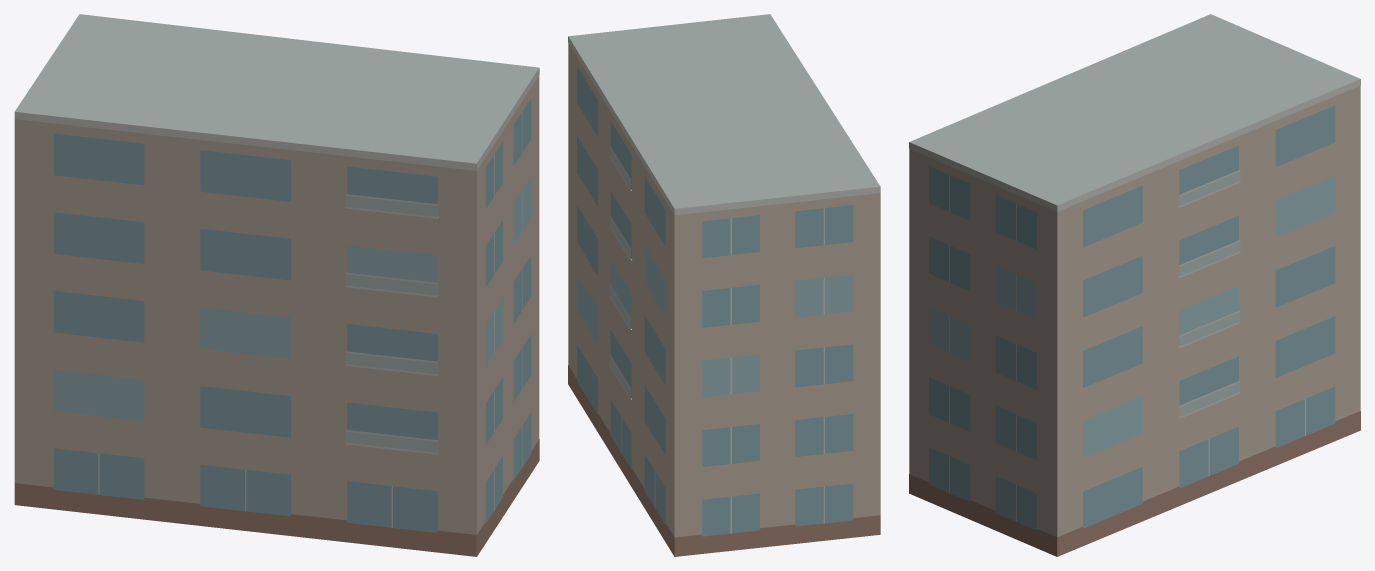
File: survey-upis-32850232.glb
3 views of the same model, side by side, from view 1: azimuth 30°, elevation 25°; view 2: azimuth 150°, elevation 25°; view 3: azimuth 270°, elevation 25° (orthographic). The views are drawn at different scales.
Parts seen in each view (by area): view 1: survey-upis-32850232.tmp; view 2: survey-upis-32850232.tmp; view 3: survey-upis-32850232.tmp.
Boxes of the visible parts, x1,y1,x2,y2 form: survey-upis-32850232.tmp: [14, 14, 539, 556]; survey-upis-32850232.tmp: [568, 14, 880, 556]; survey-upis-32850232.tmp: [909, 14, 1360, 556].
Bounding box in the file's own units: 15.43 × 13.2 × 15.38.
